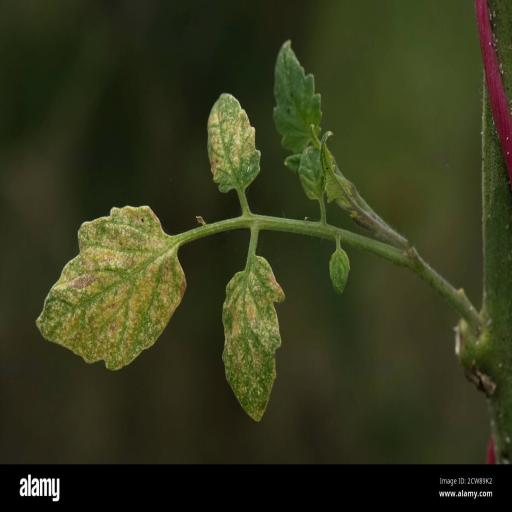disease_tomato: (32, 204, 188, 376), (218, 253, 286, 425), (207, 91, 262, 197)
